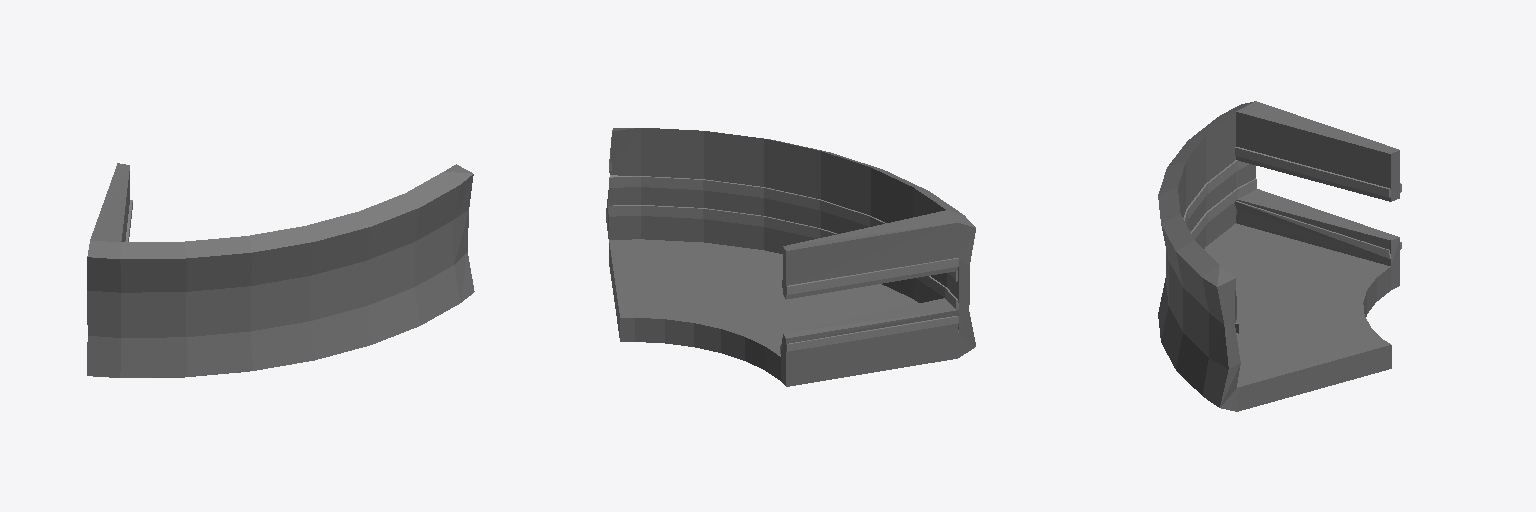
The model's file is SpaceStation6Debris.obj.
The picture shows the model from 3 angles: view 1: azimuth 30°, elevation 25°; view 2: azimuth 150°, elevation 25°; view 3: azimuth 270°, elevation 25°; orthographic projection.
Visible parts, largest first — view 1: SpaceStation2:pTorus1; view 2: SpaceStation2:pTorus1; view 3: SpaceStation2:pTorus1.
Part boxes in pixels (bbox=[...]): SpaceStation2:pTorus1: bbox=[87, 163, 474, 377]; SpaceStation2:pTorus1: bbox=[606, 128, 975, 386]; SpaceStation2:pTorus1: bbox=[1158, 101, 1401, 411].
Size of the model in its own units: 23.08 by 7.95 by 12.93.